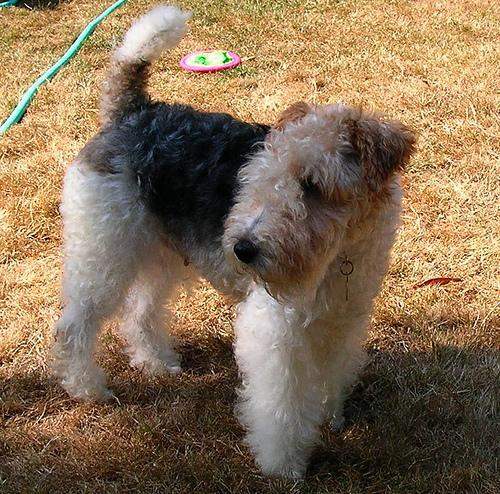wire-haired_fox_terrier: (51, 2, 417, 475)
